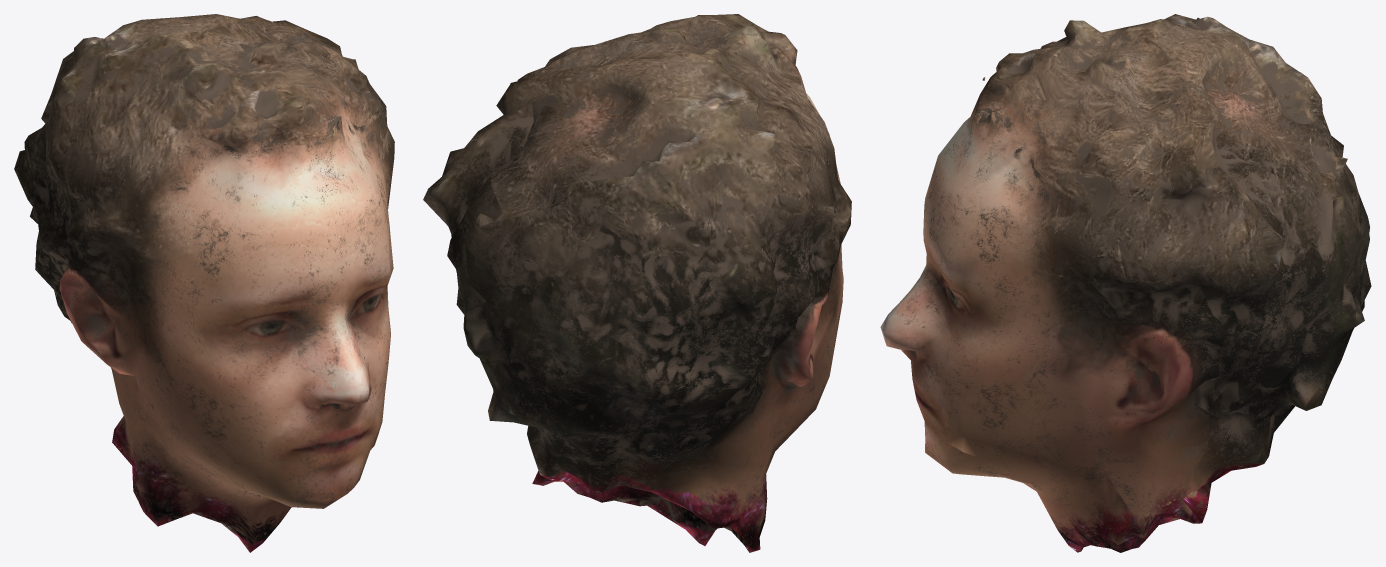
The model's file is salmonomicon.glb.
The picture shows the model from 3 angles, left to right: view 1: azimuth 30°, elevation 25°; view 2: azimuth 150°, elevation 25°; view 3: azimuth 270°, elevation 25°; orthographic projection. The views are drawn at different scales.
Visible parts, largest first — view 1: Mika_Low; view 2: Mika_Low; view 3: Mika_Low.
Part boxes in pixels (x1,y1,x2,y2): Mika_Low: [14, 14, 394, 552]; Mika_Low: [423, 14, 851, 552]; Mika_Low: [880, 14, 1371, 552].
Size of what is drawn, in the model's own units: 0.9933 by 1.47 by 1.28.
Materials: 1 (1 with a texture image).
